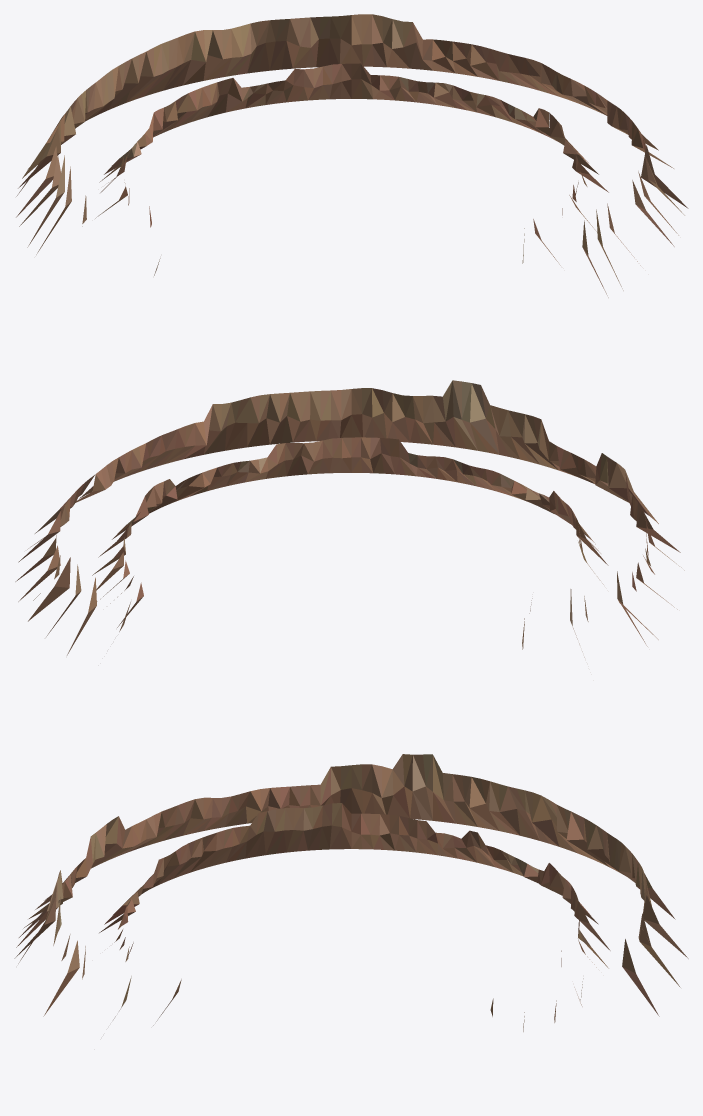
Rendered from skyline_desert.glb.
The picture shows the model from 3 angles, top to bottom: view 1: azimuth 30°, elevation 25°; view 2: azimuth 150°, elevation 25°; view 3: azimuth 270°, elevation 25°; orthographic projection.
Visible parts, largest first — view 1: skyline; view 2: skyline; view 3: skyline.
Part boxes in pixels (bbox=[...]): skyline: bbox=[16, 14, 688, 297]; skyline: bbox=[15, 380, 684, 657]; skyline: bbox=[14, 754, 688, 1031].
Size of the model in its own units: 739 by 104 by 739.
